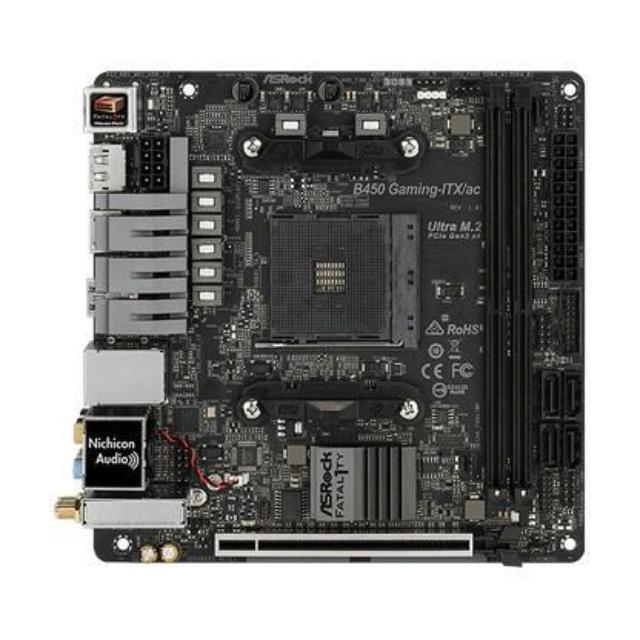Mainboard: (71, 38, 604, 592)
